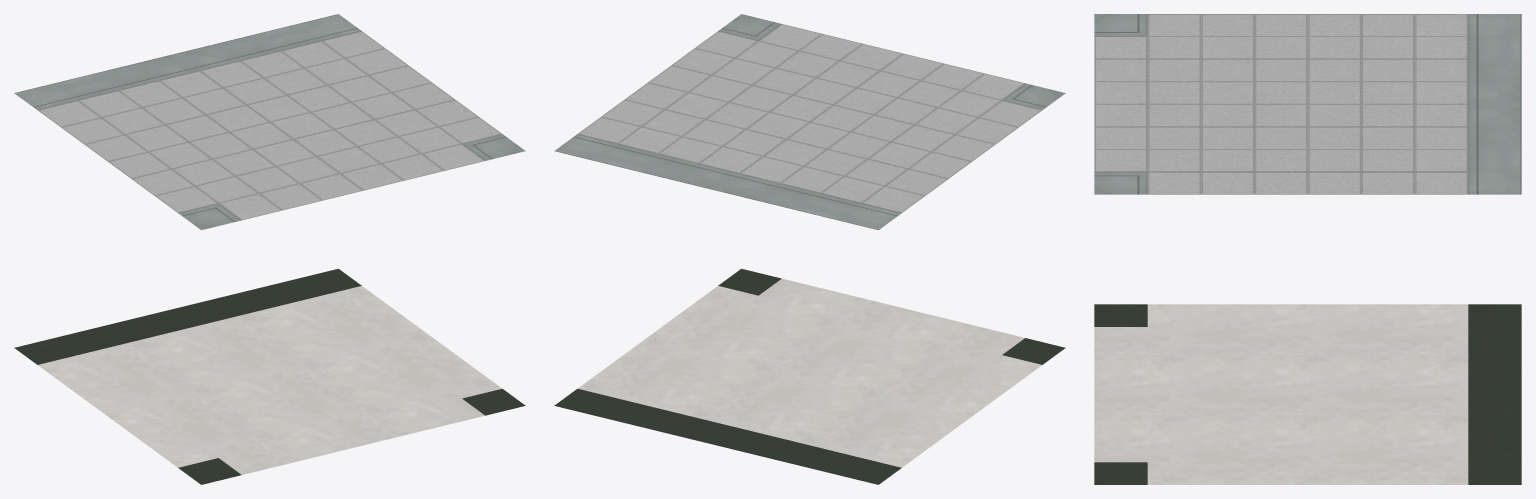
The model's file is Corridor_NoWalls.fbx.
3 renders of one model, left to right at view 1: azimuth 30°, elevation 25°; view 2: azimuth 150°, elevation 25°; view 3: azimuth 270°, elevation 25°, orthographic. The views are drawn at different scales.
Visible parts, largest first — view 1: Marble_Floor_T, Ceiling_T; view 2: Marble_Floor_T, Ceiling_T; view 3: Marble_Floor_T, Ceiling_T.
Part boxes in pixels (x1,y1,x2,y2): Marble_Floor_T: (14, 268, 525, 484); Ceiling_T: (14, 14, 525, 230); Marble_Floor_T: (554, 268, 1065, 484); Ceiling_T: (554, 14, 1065, 230); Marble_Floor_T: (1094, 304, 1521, 484); Ceiling_T: (1094, 14, 1521, 194).
Size of the model in its own units: 4 by 3 by 4.
3 materials, 3 textured.
